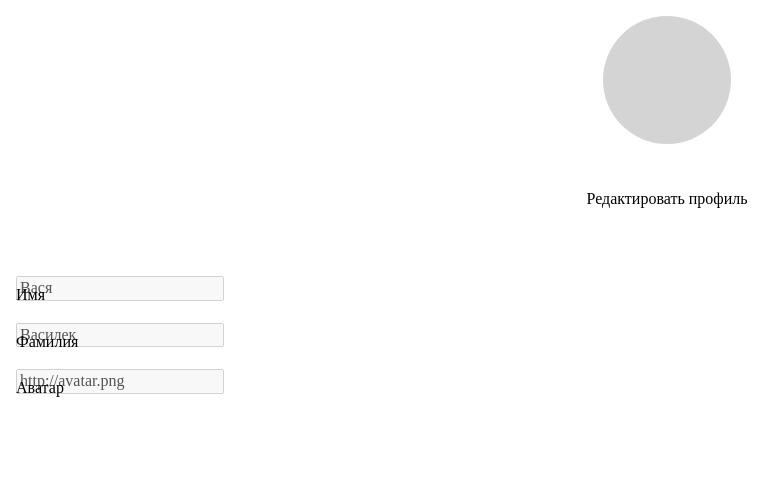
Test case: user-form › should show error when field is not valid
Click the button "Редактировать профиль" at (667, 199), box [568,180,766,218]
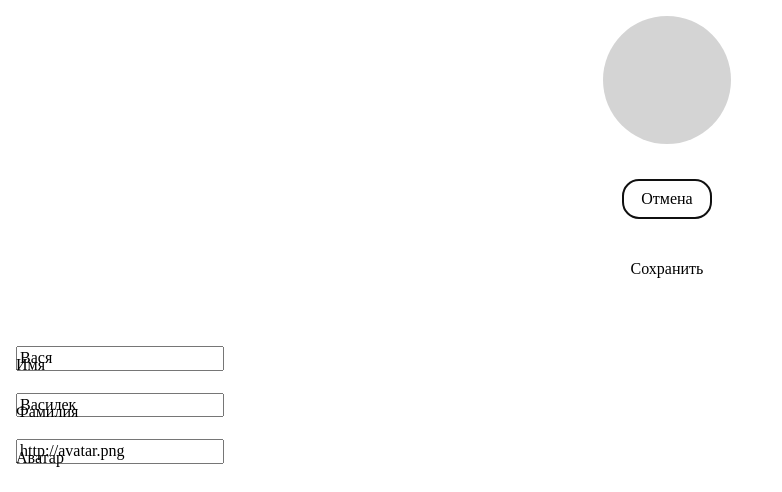
Replace the text in the field labelled "Имя" with "0" at (120, 359), box [16,346,224,371]
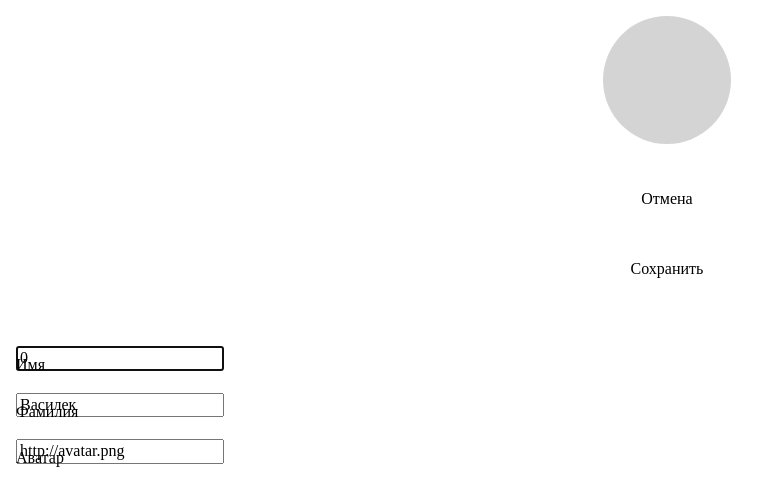
Click the button "Сохранить" at (667, 269), box [613,250,721,288]
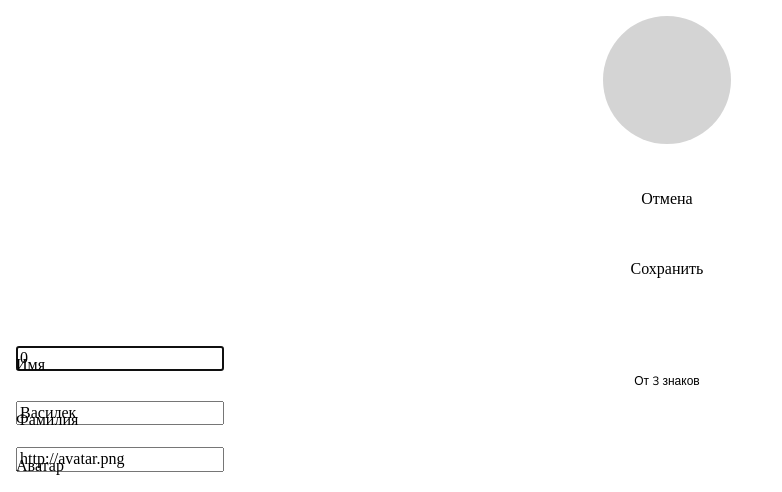
Check: the text "От 3 знаков" is shown, box [634,373,700,389]
